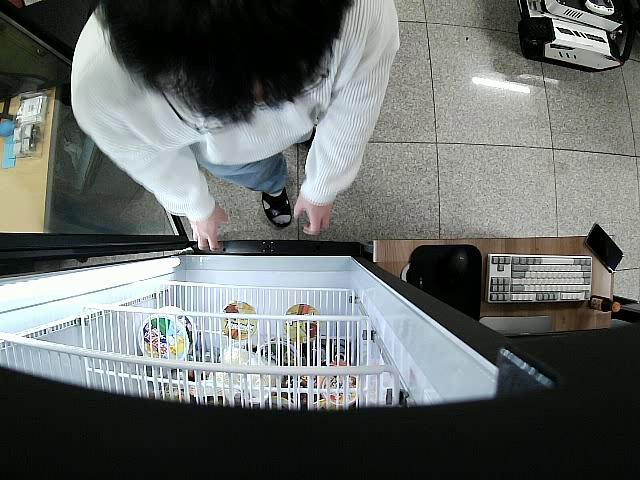00_hand: (190, 204, 233, 252), (292, 194, 333, 239)
